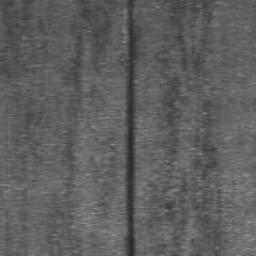Scratches: (125, 0, 136, 256)
